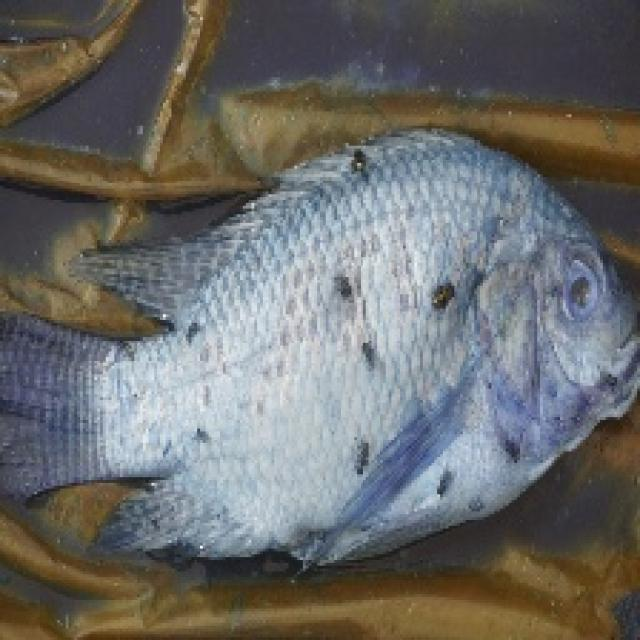Non-Fresh: (196, 236, 516, 500), (545, 245, 616, 335)
